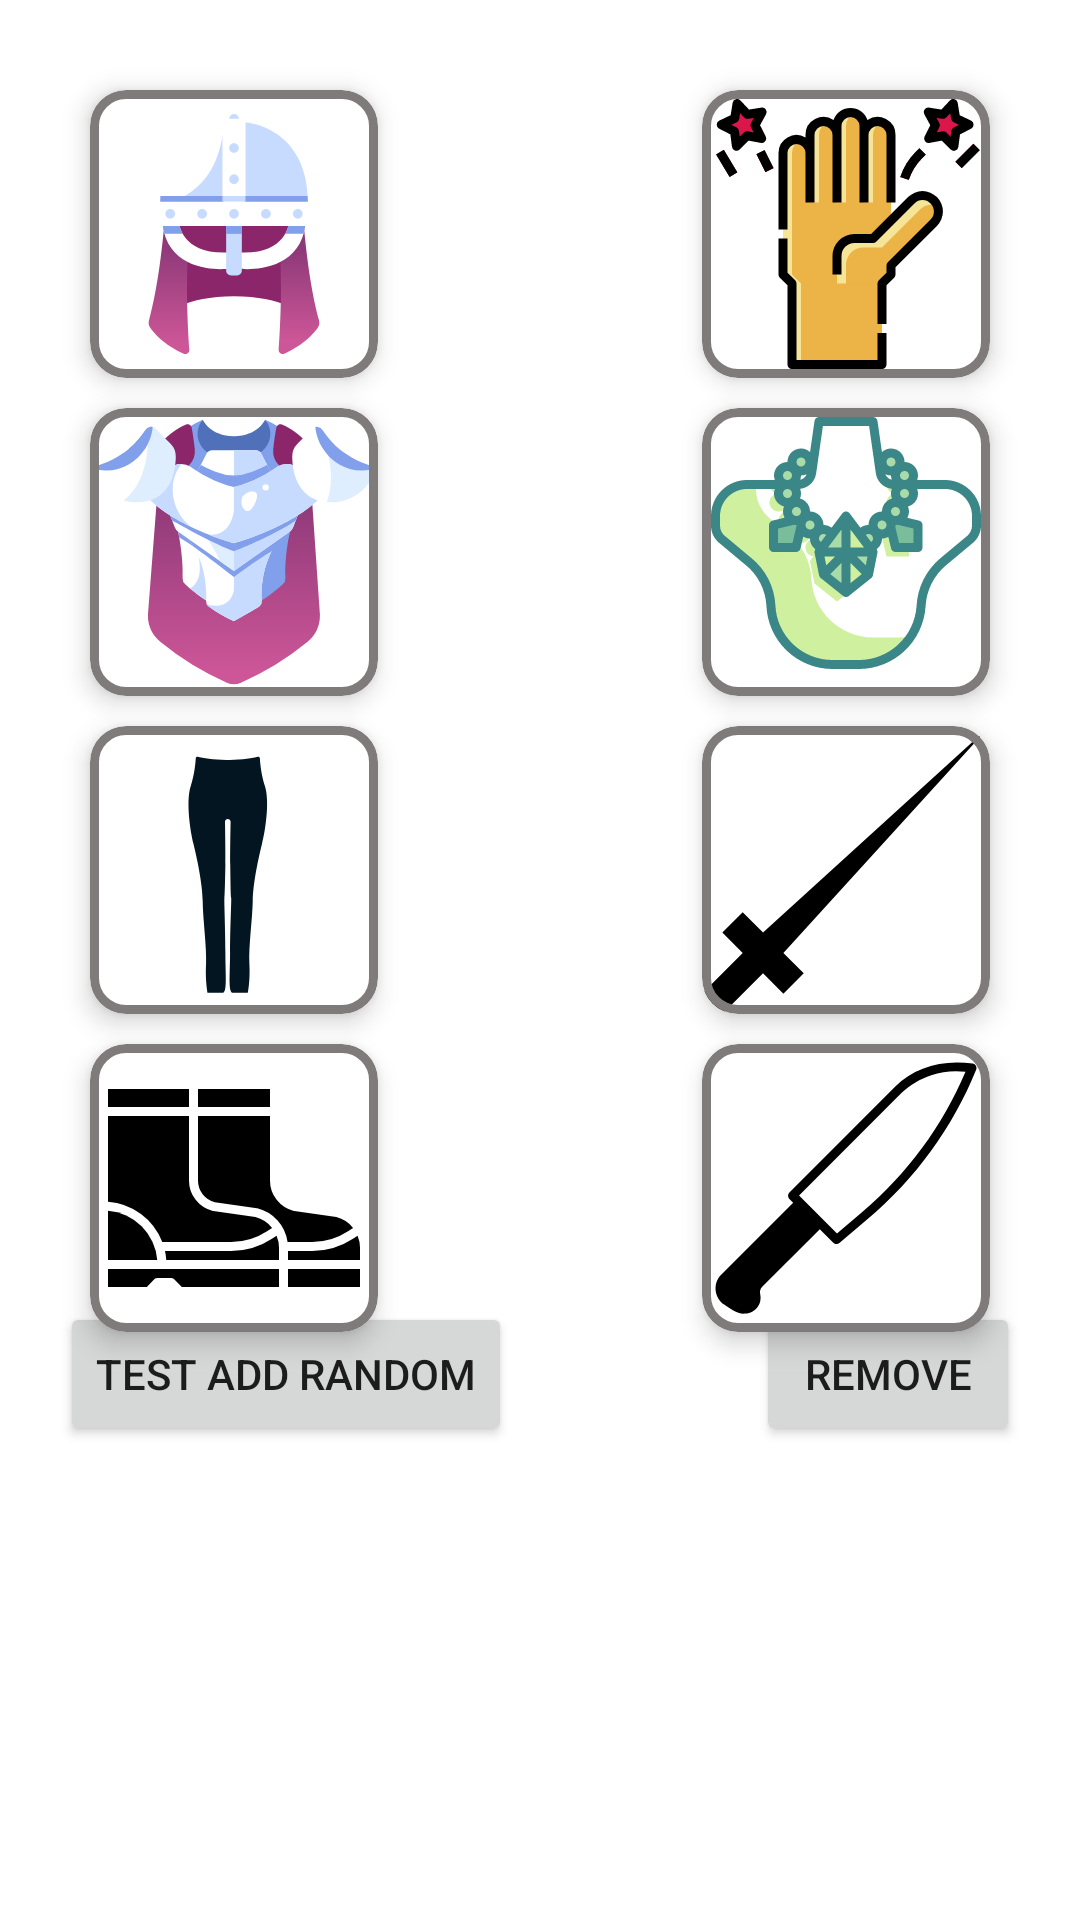

Screen size 1080 × 1920. Icon name, then its center in pixels as (x,y):
Аксессуар: (846,552)
Дополнительное оружие: (846,1188)
Нагрудник: (234,552)
Наручи: (846,234)
Оружие: (846,870)
Поножи: (234,870)
Сапоги: (234,1188)
Шлем: (234,234)
